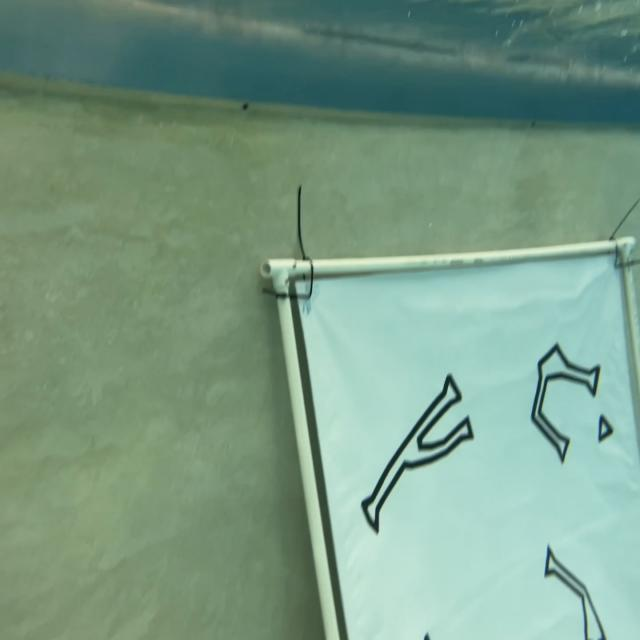abydos: (358, 370, 478, 538)
buoy: (284, 260, 640, 640)
earth: (528, 341, 615, 466), (542, 542, 614, 640)
